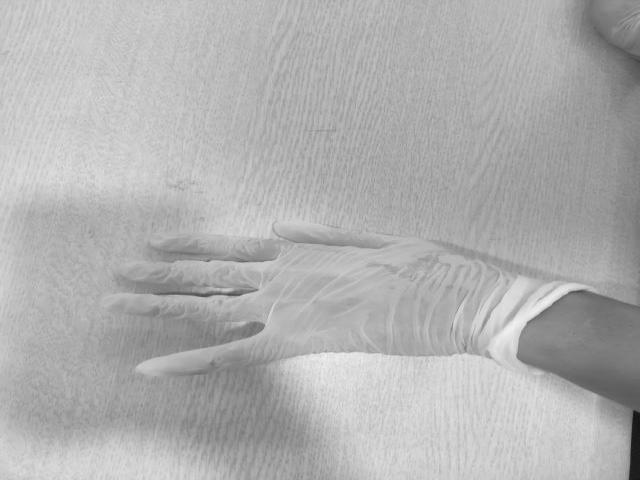gloved: (112, 220, 468, 379)
